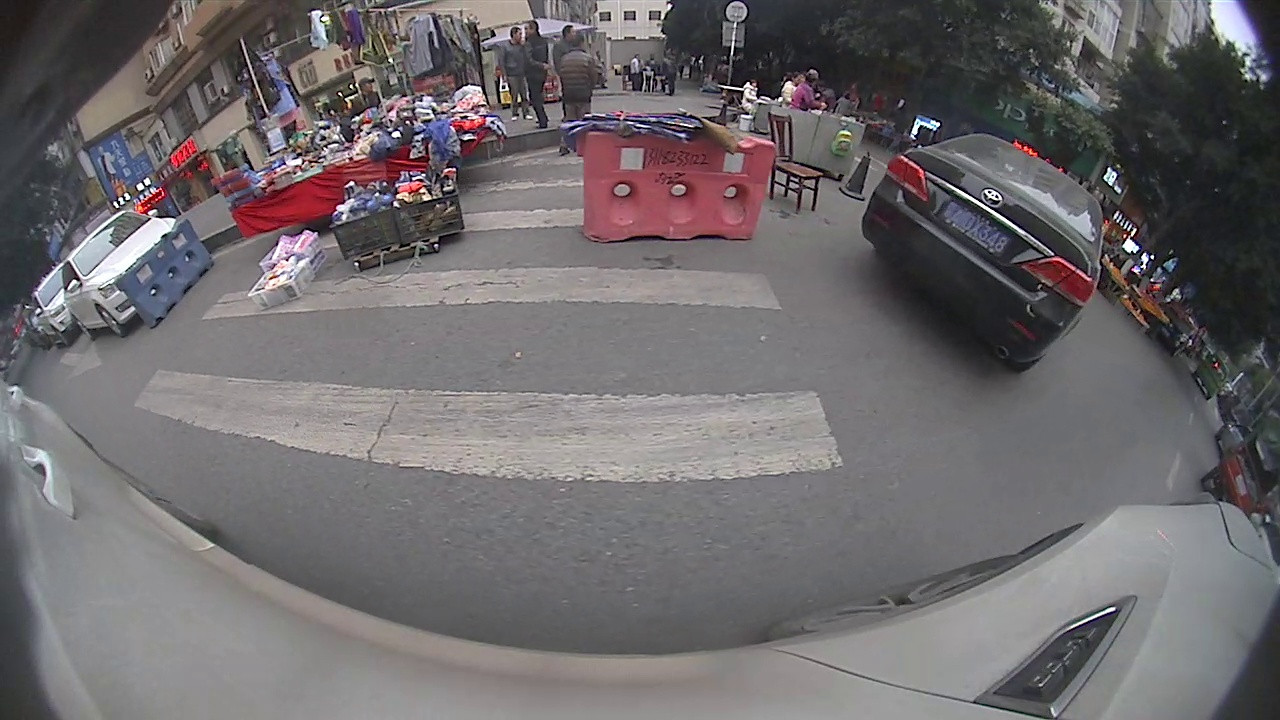car: (860, 131, 1105, 370), (60, 207, 177, 339), (23, 261, 78, 347)
front: (94, 305, 124, 341)
person: (559, 32, 594, 155), (522, 20, 548, 130), (503, 23, 529, 123)
rear: (74, 319, 94, 344)
